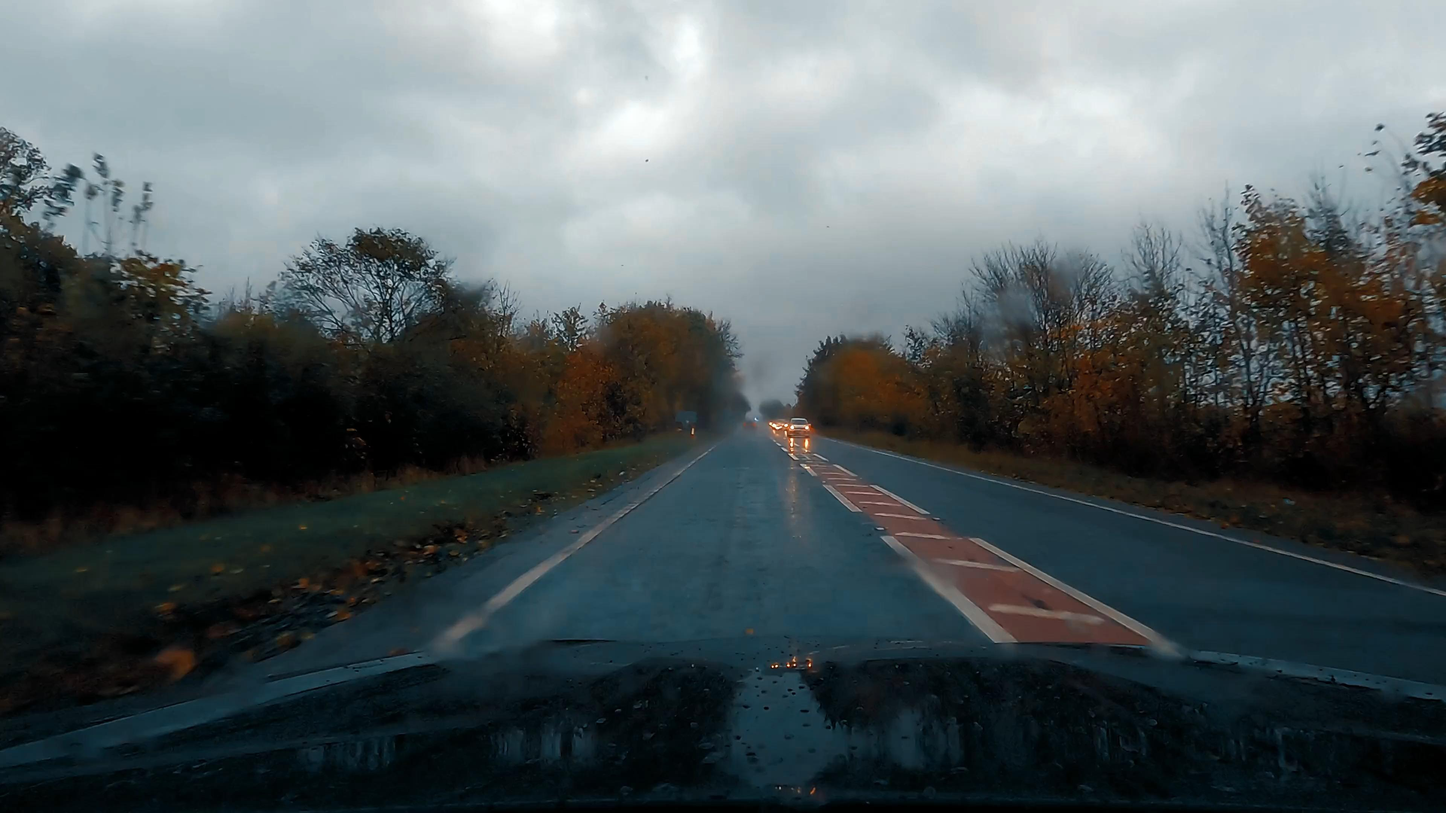wet: (208, 420, 1446, 682)
